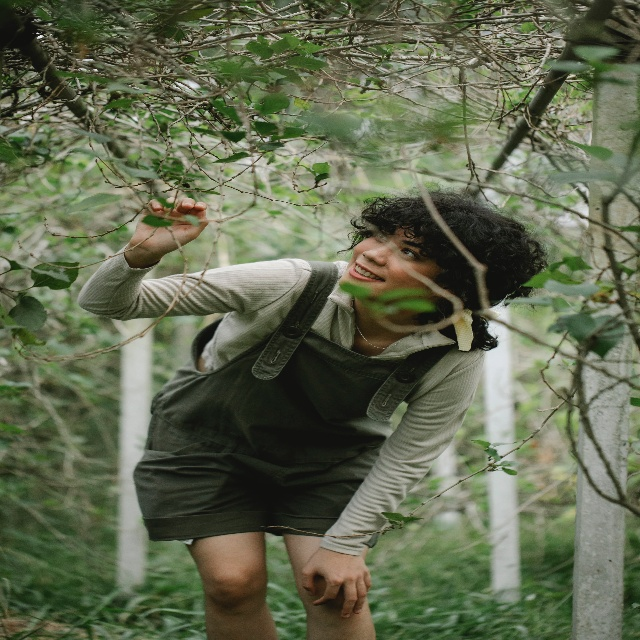Sin_guantes: (301, 546, 372, 618), (131, 196, 209, 259)
